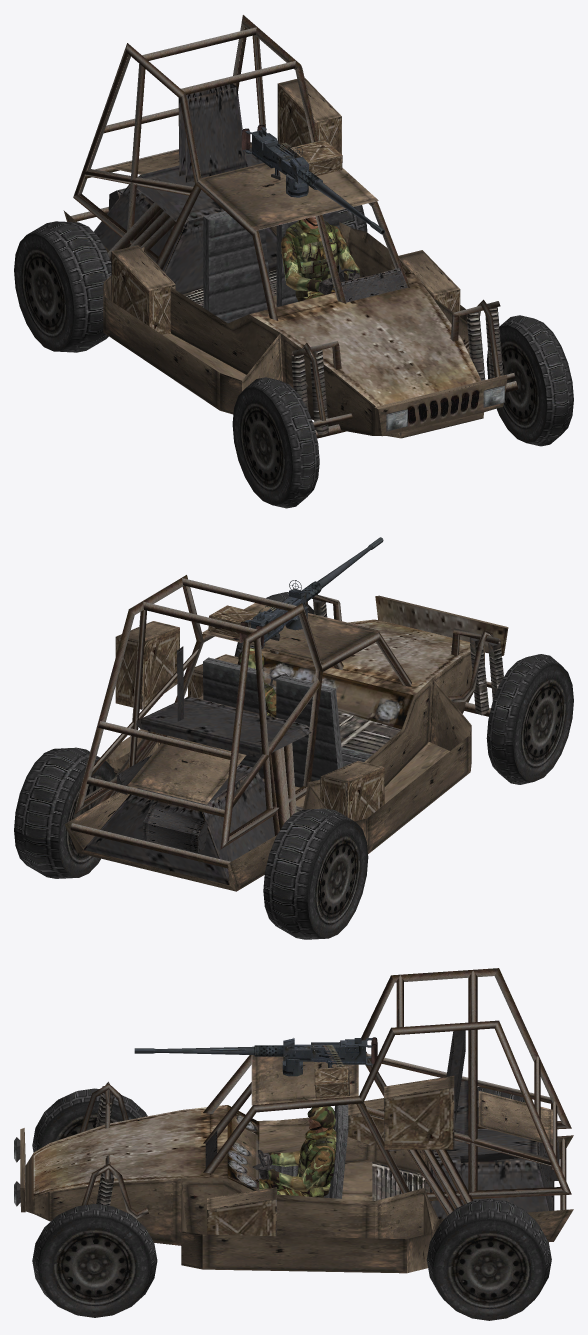
The model's file is fbuggy.glb.
The picture shows the model from 3 angles, top to bottom: view 1: azimuth 30°, elevation 25°; view 2: azimuth 150°, elevation 25°; view 3: azimuth 270°, elevation 25°; orthographic projection. The views are drawn at different scales.
Visible parts, largest first — view 1: _fbuggy; view 2: _fbuggy; view 3: _fbuggy.
Part boxes in pixels (x1=…): _fbuggy: x1=14, y1=15, x2=573, y2=508; _fbuggy: x1=14, y1=537, x2=573, y2=939; _fbuggy: x1=14, y1=968, x2=573, y2=1320.
Size of the model in its own units: 2.99 by 2.77 by 5.3.
Materials: 4 (4 with a texture image).
